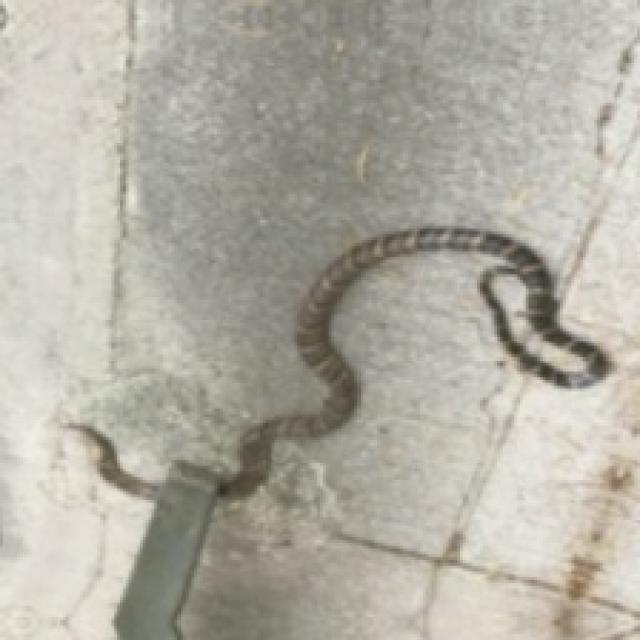king cobra: (80, 226, 609, 637)
